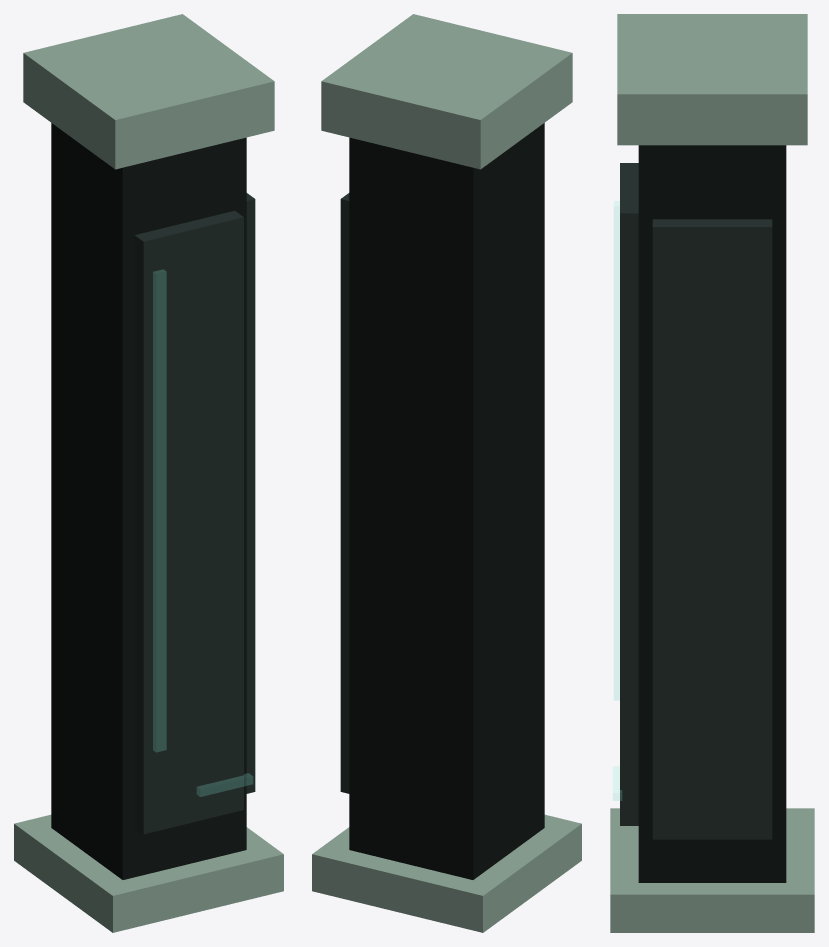
File: hp_room_corner_pillar_residential.glb
The picture shows the model from 3 angles, left to right: view 1: azimuth 30°, elevation 25°; view 2: azimuth 150°, elevation 25°; view 3: azimuth 270°, elevation 25°; orthographic projection. The views are drawn at different scales.
Parts seen in each view (by area): view 1: residential_corner_pillar_core, residential_corner_pillar_front_plate, residential_corner_pillar_top_cap, residential_corner_pillar_vertical_light; view 2: residential_corner_pillar_core, residential_corner_pillar_top_cap, residential_corner_pillar_front_plate; view 3: residential_corner_pillar_front_plate, residential_corner_pillar_top_cap, residential_corner_pillar_core, residential_corner_pillar_vertical_light.
Boxes of the visible parts, x1,y1,x2,y2 form: residential_corner_pillar_core: (51, 123, 246, 879); residential_corner_pillar_front_plate: (134, 193, 255, 834); residential_corner_pillar_top_cap: (14, 14, 283, 932); residential_corner_pillar_vertical_light: (153, 270, 252, 796); residential_corner_pillar_core: (349, 123, 544, 879); residential_corner_pillar_top_cap: (312, 14, 581, 932); residential_corner_pillar_front_plate: (340, 193, 349, 793); residential_corner_pillar_front_plate: (620, 163, 772, 839); residential_corner_pillar_top_cap: (610, 14, 814, 932); residential_corner_pillar_core: (638, 145, 786, 882); residential_corner_pillar_vertical_light: (613, 201, 621, 800).
Size of the model in its own units: 0.5799 by 2.62 by 0.5799.
